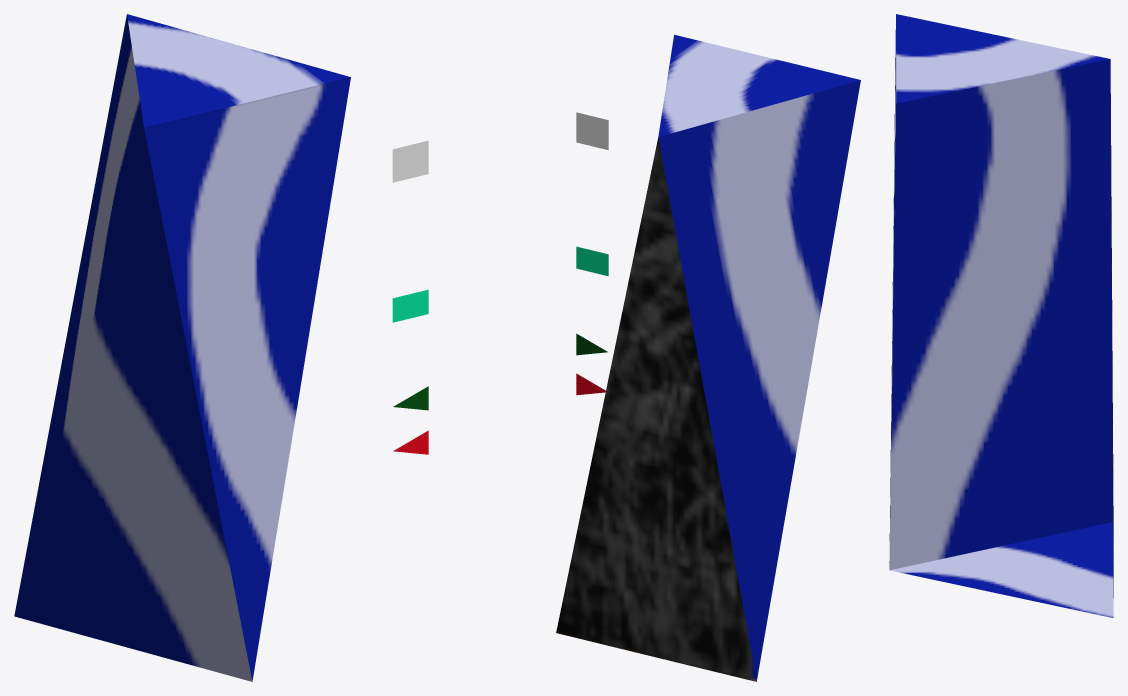
The model's file is MaquinaDeSodaLOD2.fbx.
The picture shows the model from 3 angles, left to right: view 1: azimuth 30°, elevation 25°; view 2: azimuth 150°, elevation 25°; view 3: azimuth 270°, elevation 25°; orthographic projection. The views are drawn at different scales.
Parts seen in each view (by area): view 1: MaquinaDeSodaLOD1.001; view 2: MaquinaDeSodaLOD1.001; view 3: MaquinaDeSodaLOD1.001.
Boxes of the visible parts, x1,y1,x2,y2 form: MaquinaDeSodaLOD1.001: (14,14,428,681); MaquinaDeSodaLOD1.001: (556,34,860,681); MaquinaDeSodaLOD1.001: (889,14,1113,617).
Size of the model in its own units: 138 by 205 by 81.47.
